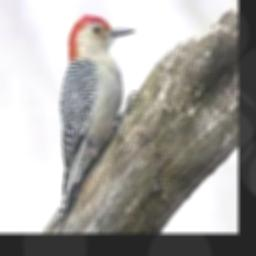Woodpecker: (45, 15, 134, 232)
